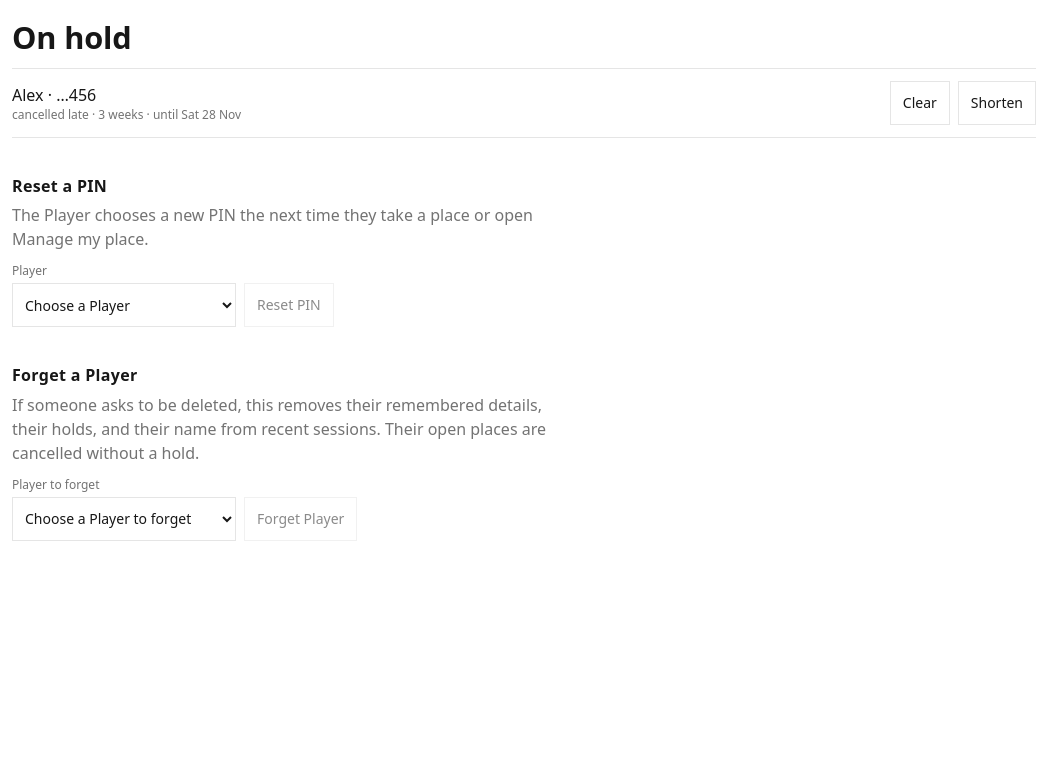
Test case: holds › keeps the form open and explains when the server refuses the date
Step 1. Click the button with aria-label "Shorten hold for Alex" → (997, 103), box [958,81,1036,125]
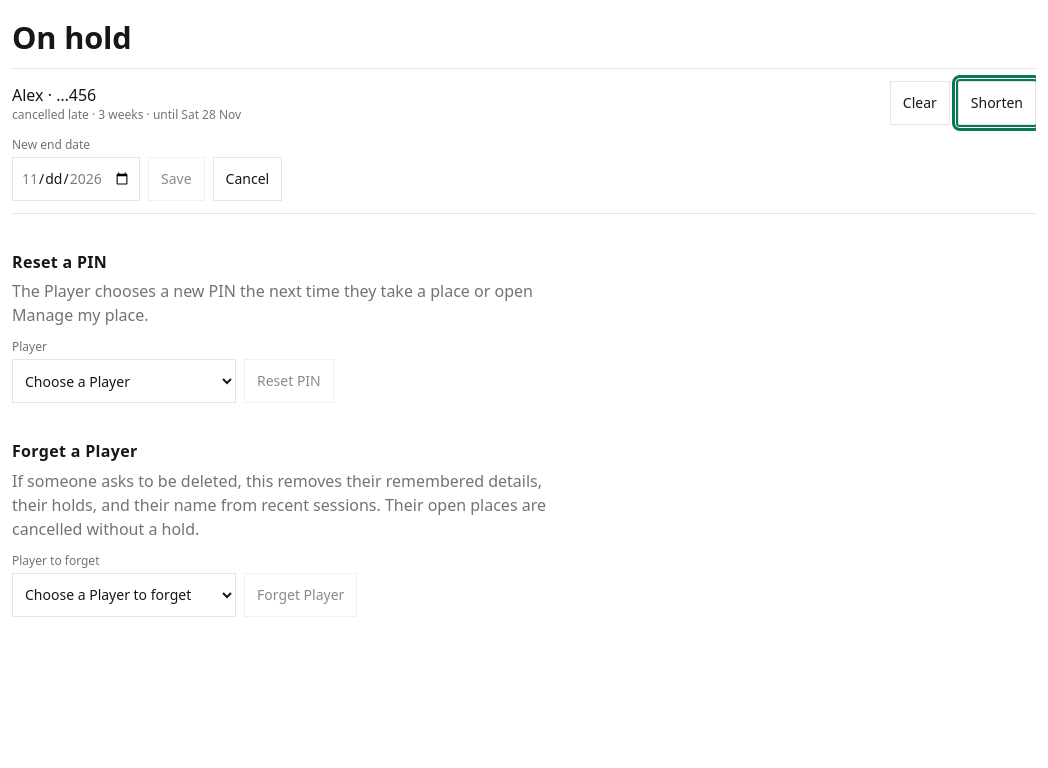
Step 2. Type "2026-11-14" into the date field labelled "New end date" → (76, 179), box [12,157,140,201]
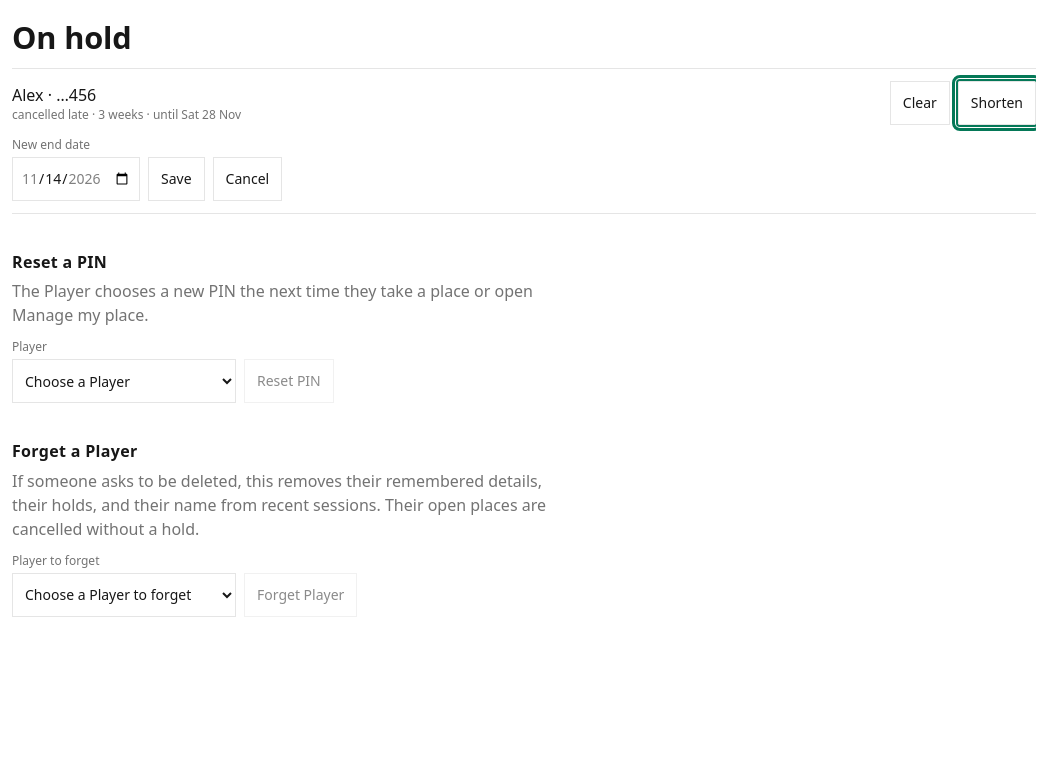
Step 3. Click the button "Save" → (176, 179), box [148,157,205,201]
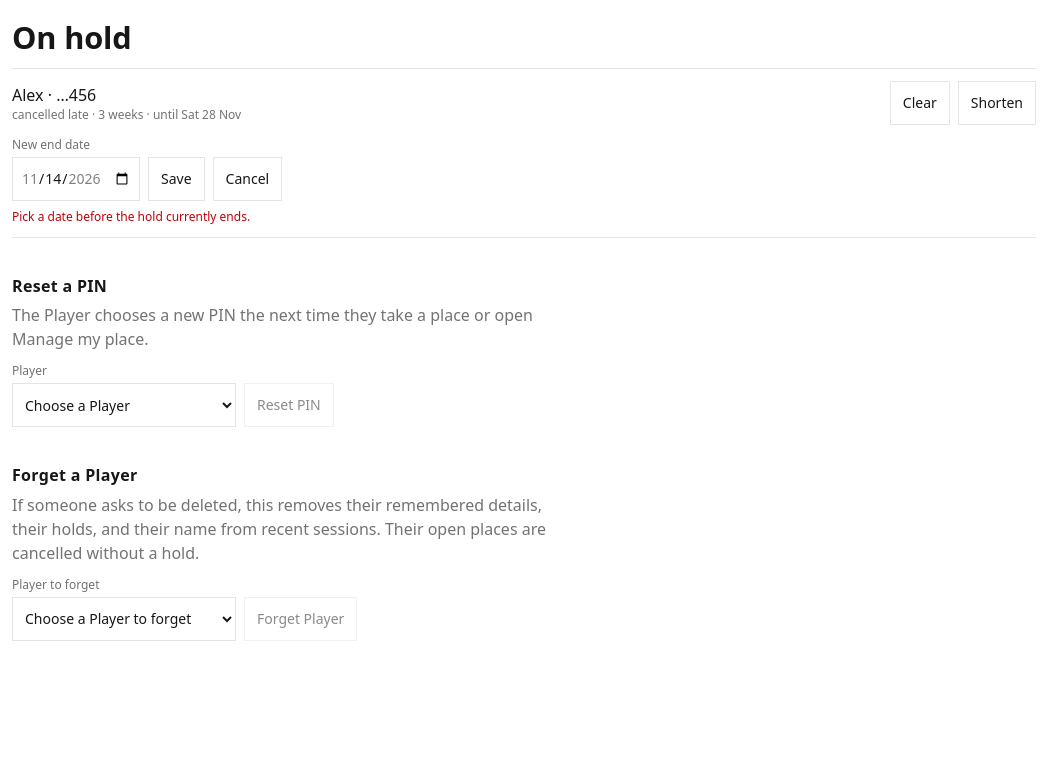
Expected: the message reads "Pick a date before the hold currently ends.", [12,208,250,225]
